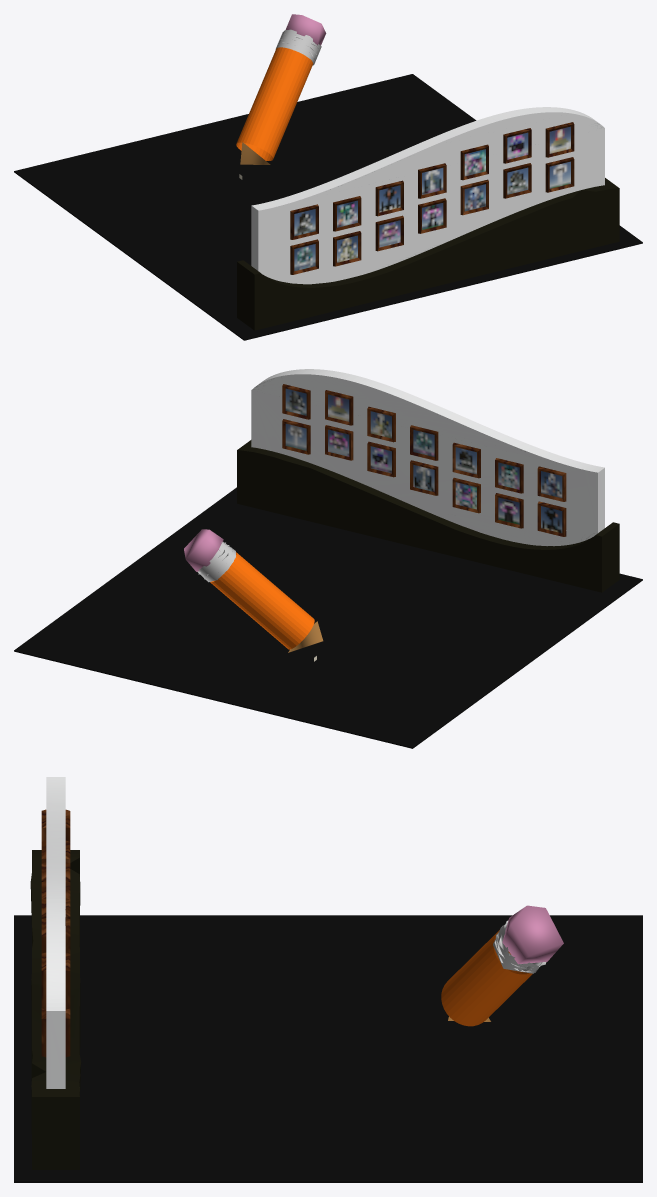
The model's file is QmXL7CFgnHyvvDYu6S8yPa1pNntts1cQDst5UzQESipc65_lod2.fbx.
3 renders of one model, top to bottom at view 1: azimuth 30°, elevation 25°; view 2: azimuth 150°, elevation 25°; view 3: azimuth 270°, elevation 25°, orthographic. The views are drawn at different scales.
Visible parts, largest first — view 1: Entity_513; view 2: Entity_513; view 3: Entity_513.
Part boxes in pixels (left/top/right/bottom): Entity_513: left=14, top=14, right=642, bottom=340; Entity_513: left=14, top=369, right=642, bottom=748; Entity_513: left=14, top=777, right=642, bottom=1182.
Bounding box in the file's own units: 16012 × 5617 × 16012.
Materials: 1 (1 with a texture image).
